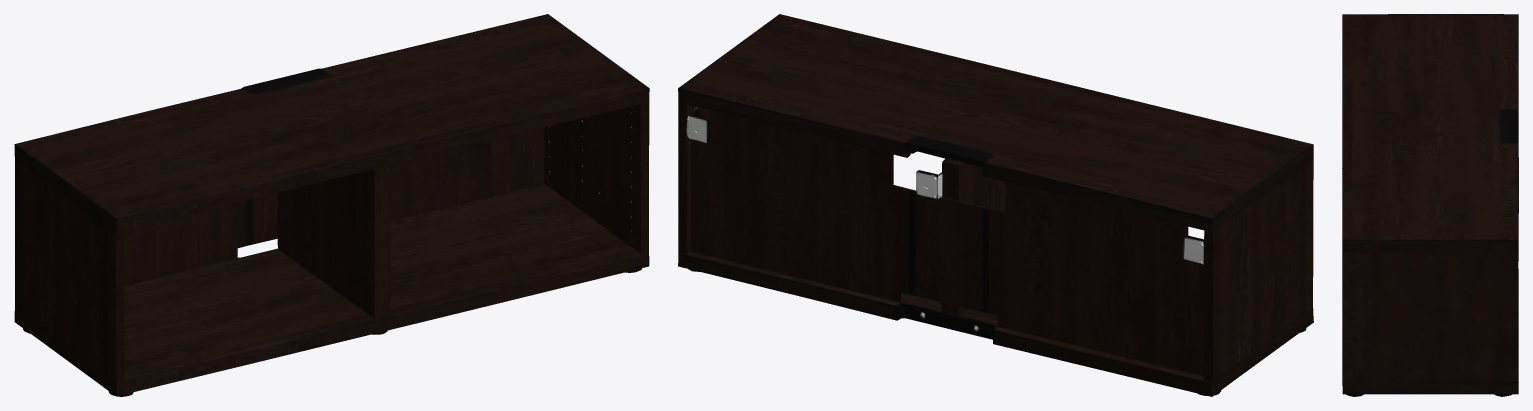
The picture shows the model from 3 angles, left to right: view 1: azimuth 30°, elevation 25°; view 2: azimuth 150°, elevation 25°; view 3: azimuth 270°, elevation 25°; orthographic projection. The views are drawn at different scales.
Visible parts, largest first — view 1: ProcessedMeshNode; view 2: ProcessedMeshNode; view 3: ProcessedMeshNode.
Boxes of the visible parts, box(x1,y1,x2,y2) form: ProcessedMeshNode: box(14, 14, 649, 396); ProcessedMeshNode: box(678, 14, 1313, 396); ProcessedMeshNode: box(1342, 14, 1518, 396).
Size of the model in its own units: 1.2 by 0.3946 by 0.397.
Materials: 1 (1 with a texture image).
